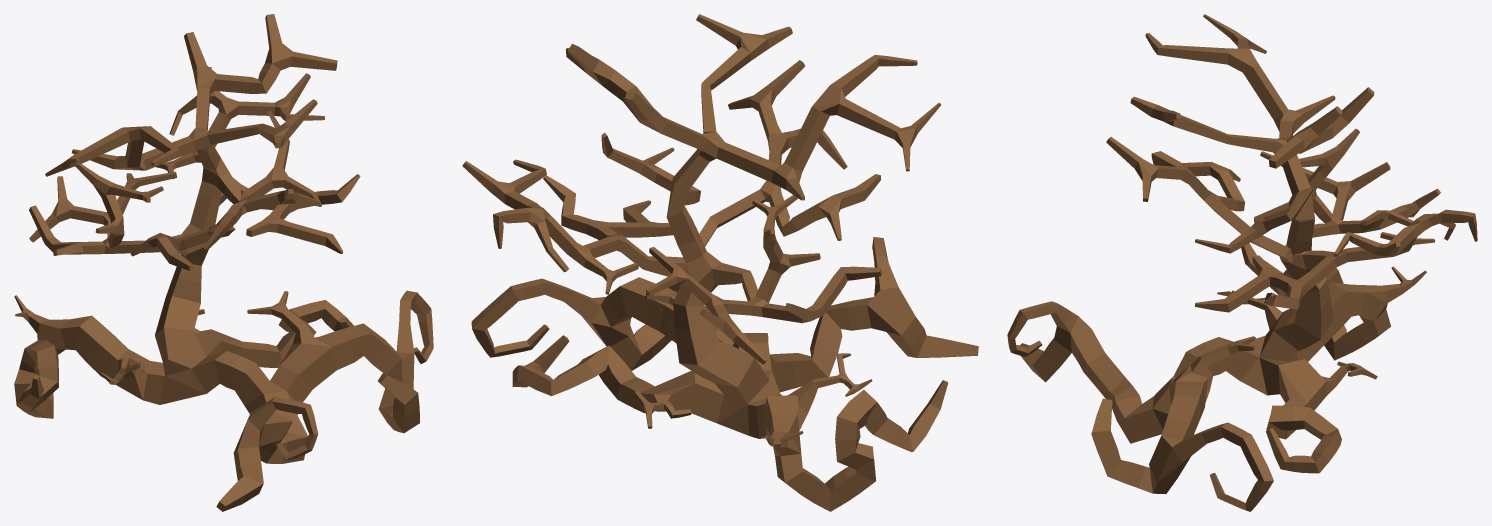
The model's file is giant dead tree.fbx.
The picture shows the model from 3 angles, left to right: view 1: azimuth 30°, elevation 25°; view 2: azimuth 150°, elevation 25°; view 3: azimuth 270°, elevation 25°; orthographic projection. The views are drawn at different scales.
Parts seen in each view (by area): view 1: Cube.001; view 2: Cube.001; view 3: Cube.001.
Part boxes in pixels (x1,y1,x2,y2): Cube.001: [14, 14, 433, 511]; Cube.001: [462, 14, 978, 511]; Cube.001: [1007, 14, 1477, 511].
Size of the model in its own units: 7202 by 6008 by 6930.
